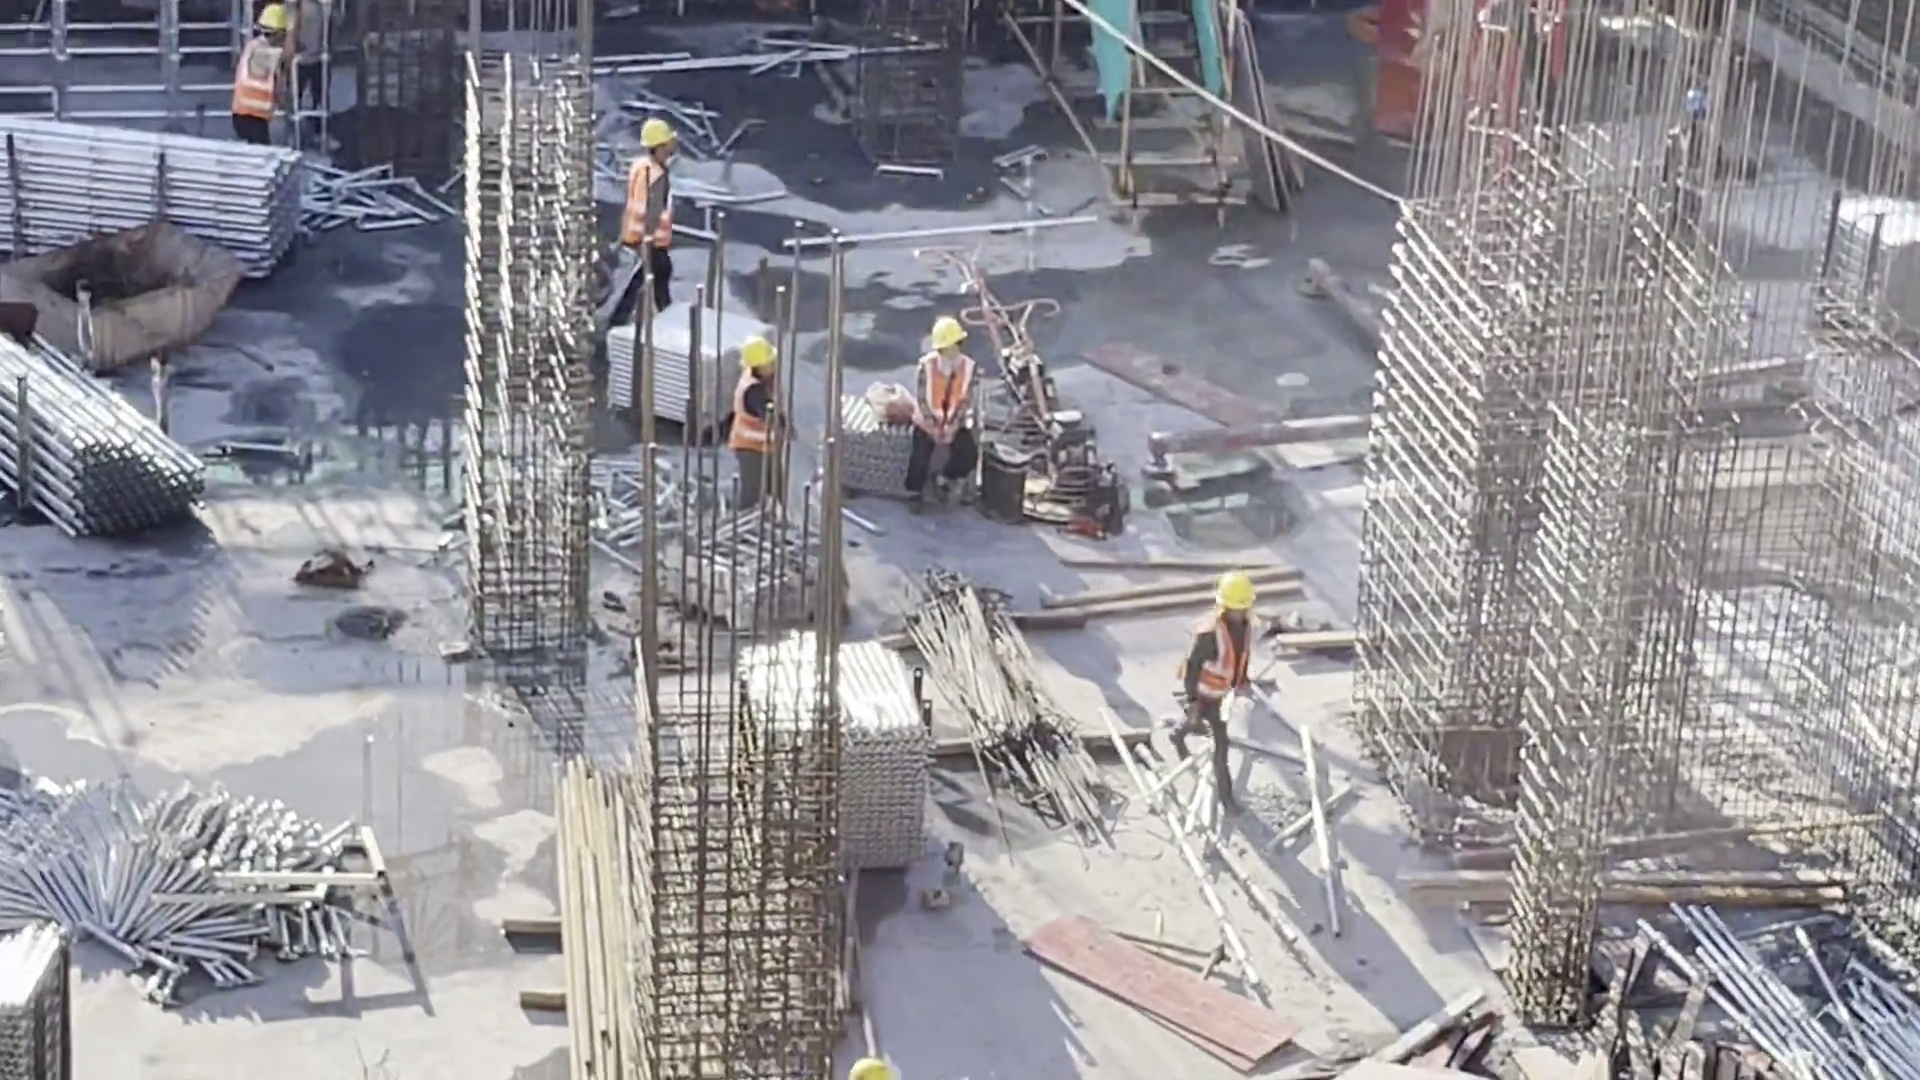helmet: (1211, 572, 1262, 608), (743, 335, 789, 375), (645, 115, 693, 143), (934, 322, 975, 354), (1685, 89, 1719, 117), (252, 1, 292, 20)
person: (607, 120, 695, 345), (1662, 76, 1748, 265), (221, 4, 310, 189), (1195, 569, 1281, 756), (915, 306, 989, 513), (737, 323, 804, 523), (290, 1, 355, 150)
scaffold: (2, 733, 329, 967), (718, 627, 953, 885), (1667, 870, 1911, 1080), (1, 300, 200, 541), (1, 117, 340, 249), (597, 470, 828, 635), (597, 298, 783, 431), (1, 909, 90, 1074), (1840, 179, 1920, 350)
vest: (622, 150, 682, 255), (1199, 602, 1256, 707), (917, 350, 981, 441), (239, 24, 289, 129), (1668, 127, 1726, 202), (741, 372, 777, 458)
